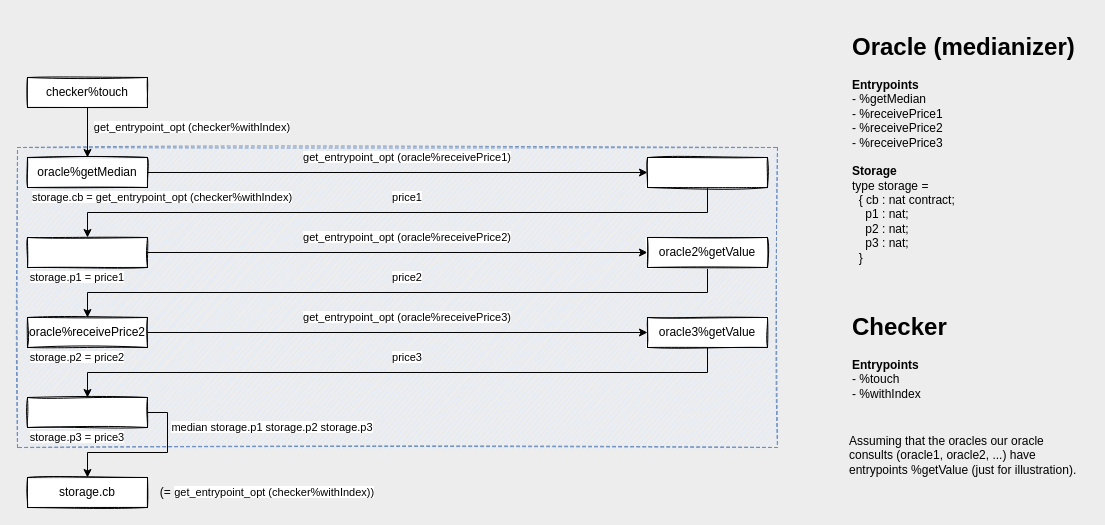
Image size: 1105x525. Some labels were removed from this diagram. Here are the shapes that lost their labels. From the top down, the centre of each, then its label:
At point (707, 172): "oracle1%getValue".
At point (87, 252): "oracle%receivePrice1".
At point (87, 412): "oracle%receivePrice3".
